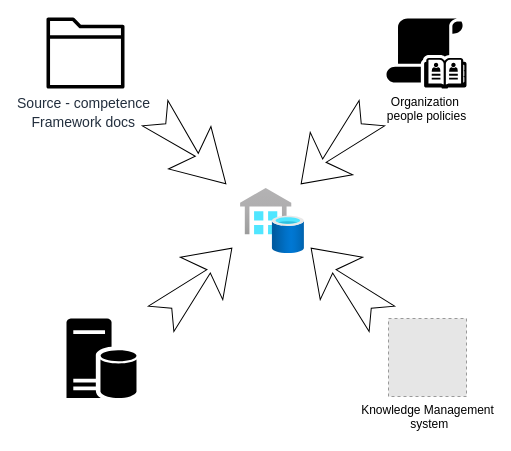
This 511x451 diagram has some shape labels left out. Grey dashed boxes stand in for pictures. The centre of each missing label's shape, as x and y in pixels:
HR/ERP system (Workday): [101,358]
Indexed data: [272,220]
